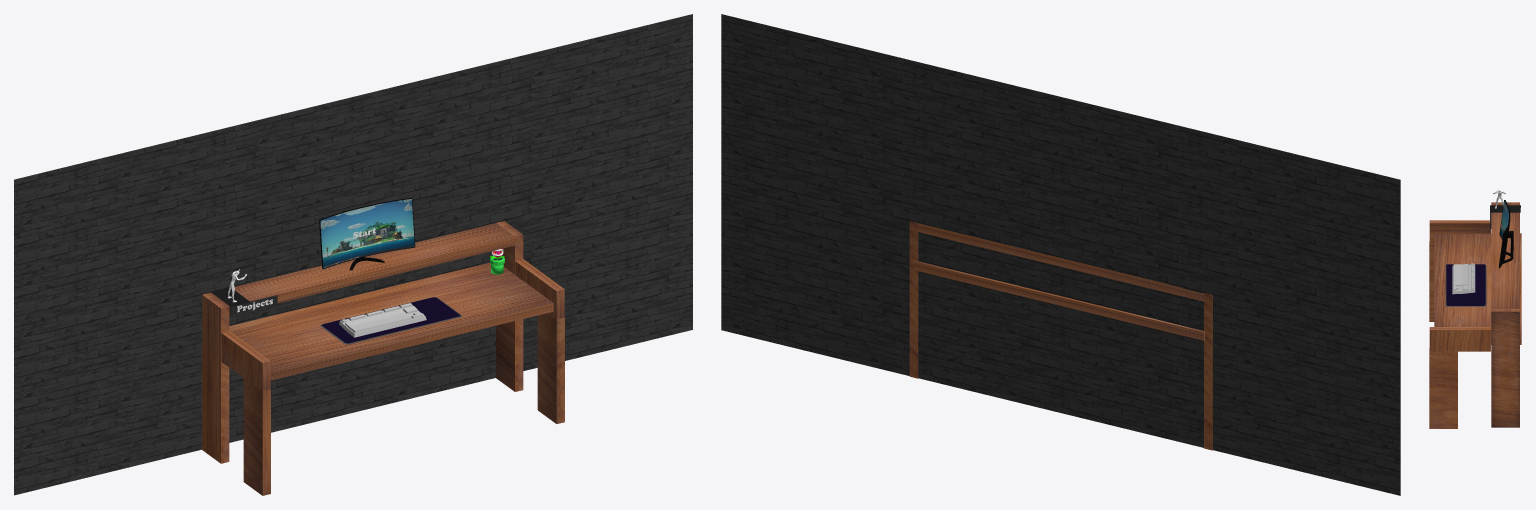
File: desk.gltf
The picture shows the model from 3 angles, left to right: view 1: azimuth 30°, elevation 25°; view 2: azimuth 150°, elevation 25°; view 3: azimuth 270°, elevation 25°; orthographic projection. The views are drawn at different scales.
Parts seen in each view (by area): view 1: Plane, Cube.006, Cube.007, Curved_Monitor_MAT_Screen_0, Cube.008, Cube.012, Cube.013, Cube.010, Cube.009, Keyboard_01, Plane.009, Cube.011; view 2: Plane, Cube.006, Cube.007, Cube.010, Cube.008; view 3: Cube.006, Cube.010, Cube.007, Cube.013, Cube.011, Plane.009, Cube.009, Keyboard_01, Cube.012, Curved_Monitor_MAT_Plastic_0, Plane.008, Curved_Monitor_MAT_Screen_0 (+2 smaller).
Part boxes in pixels (x1,y1,x2,y2): Plane: (14,14,692,495); Cube.006: (229,262,553,380); Cube.007: (211,223,514,315); Curved_Monitor_MAT_Screen_0: (320,199,414,268); Cube.008: (202,292,229,463); Cube.012: (243,378,270,495); Cube.013: (537,313,564,423); Cube.010: (496,221,523,391); Cube.009: (221,331,270,391); Keyboard_01: (339,303,426,337); Plane.009: (322,297,460,343); Cube.011: (515,259,564,319); Plane: (721,14,1400,495); Cube.006: (913,261,1204,340); Cube.007: (918,223,1203,301); Cube.010: (909,221,918,378); Cube.008: (1204,293,1212,450); Cube.006: (1434,233,1521,344); Cube.010: (1491,309,1519,427); Cube.007: (1491,212,1519,308); Cube.013: (1429,348,1457,428); Cube.011: (1429,327,1490,351); Plane.009: (1446,264,1485,305); Cube.009: (1429,220,1490,244); Keyboard_01: (1452,263,1475,294); Cube.012: (1429,241,1434,321); Curved_Monitor_MAT_Plastic_0: (1498,200,1510,268); Plane.008: (1445,264,1486,306); Curved_Monitor_MAT_Screen_0: (1499,201,1508,239).
Bounding box in the file's own units: 50.55 × 22.62 × 7.97.
